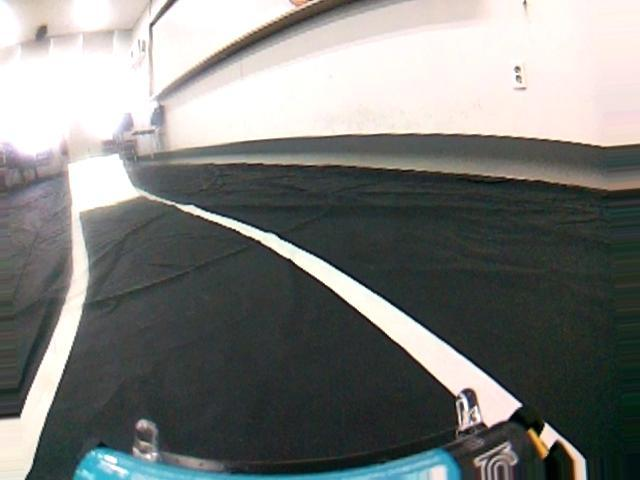left: (0, 230, 624, 480)
